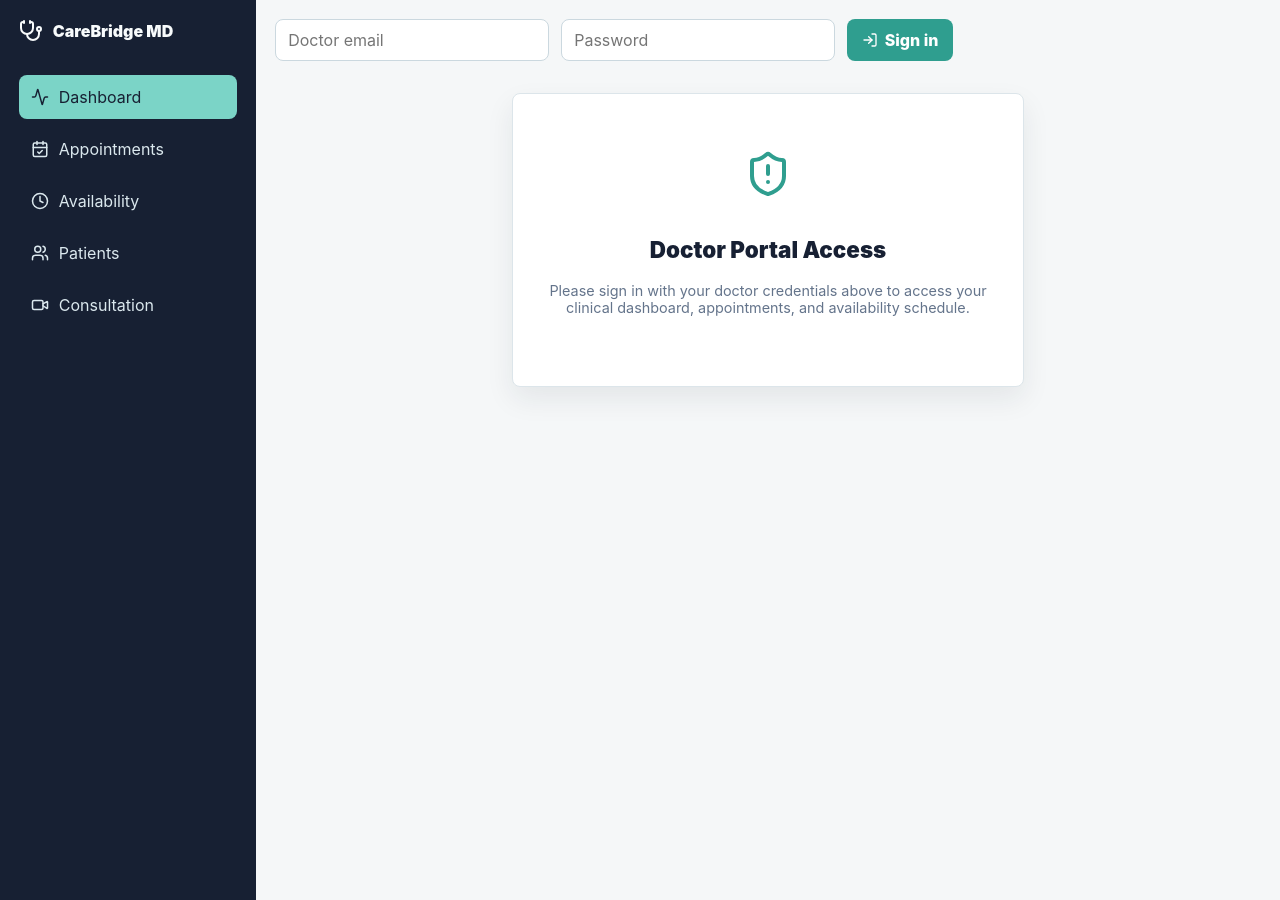
Test case: Doctor Dashboard: Real Component Workflow Tests › enforces session isolation: unmounts on logout, switches between Doctor A and Doctor B, and never leaks data
Expected: the heading "Doctor Portal Access" is shown, [650,236,886,263]
Expected: the text "Alice Routine Examination" is not shown
Type "doctorA@example.com" into the field with placeholder "Doctor email" at (412,40), box [275,19,549,61]
Type "Password123!" into the password field with placeholder "Password" at (698,40), box [561,19,835,61]
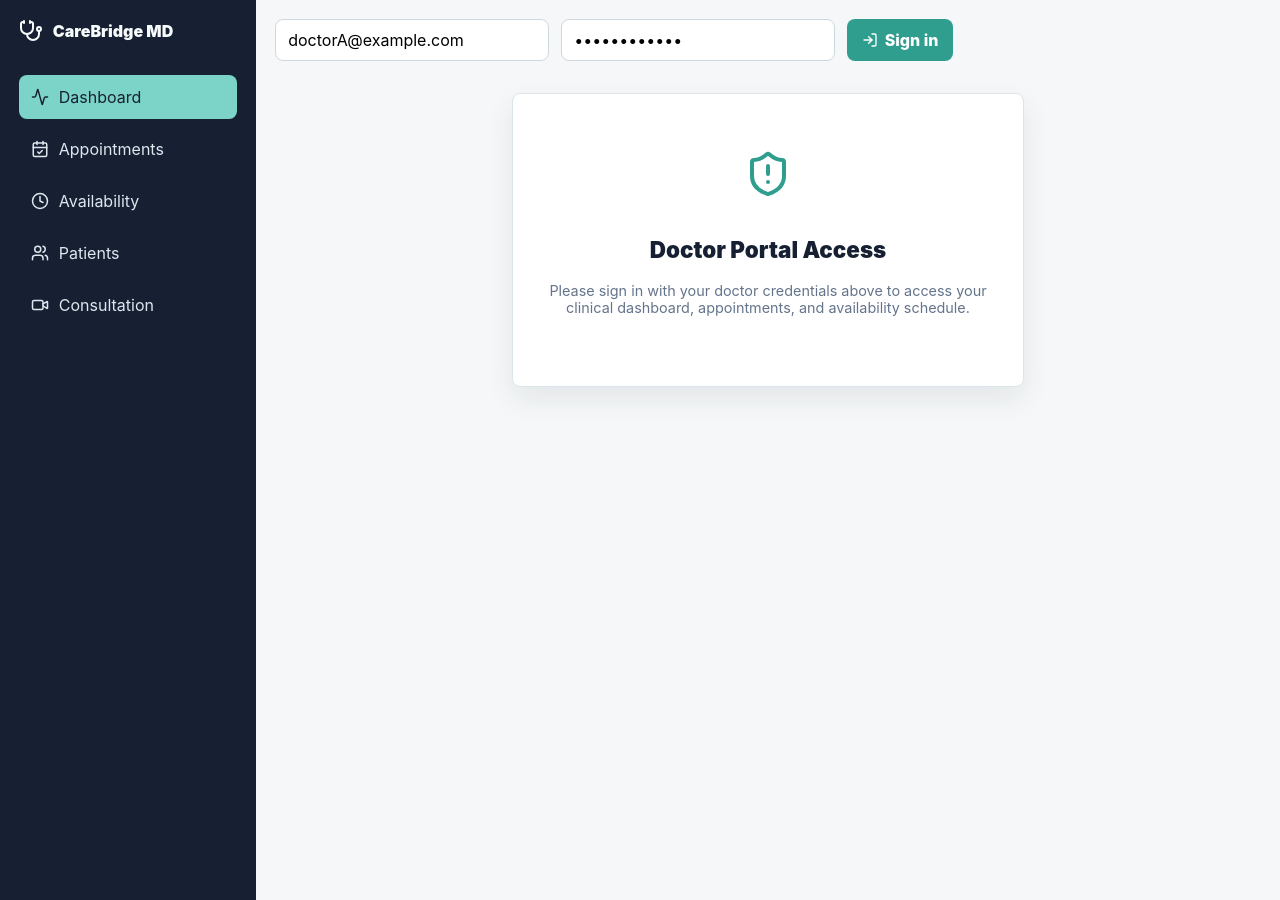
Click the button "Sign in" at (900,40), box [847,19,953,61]
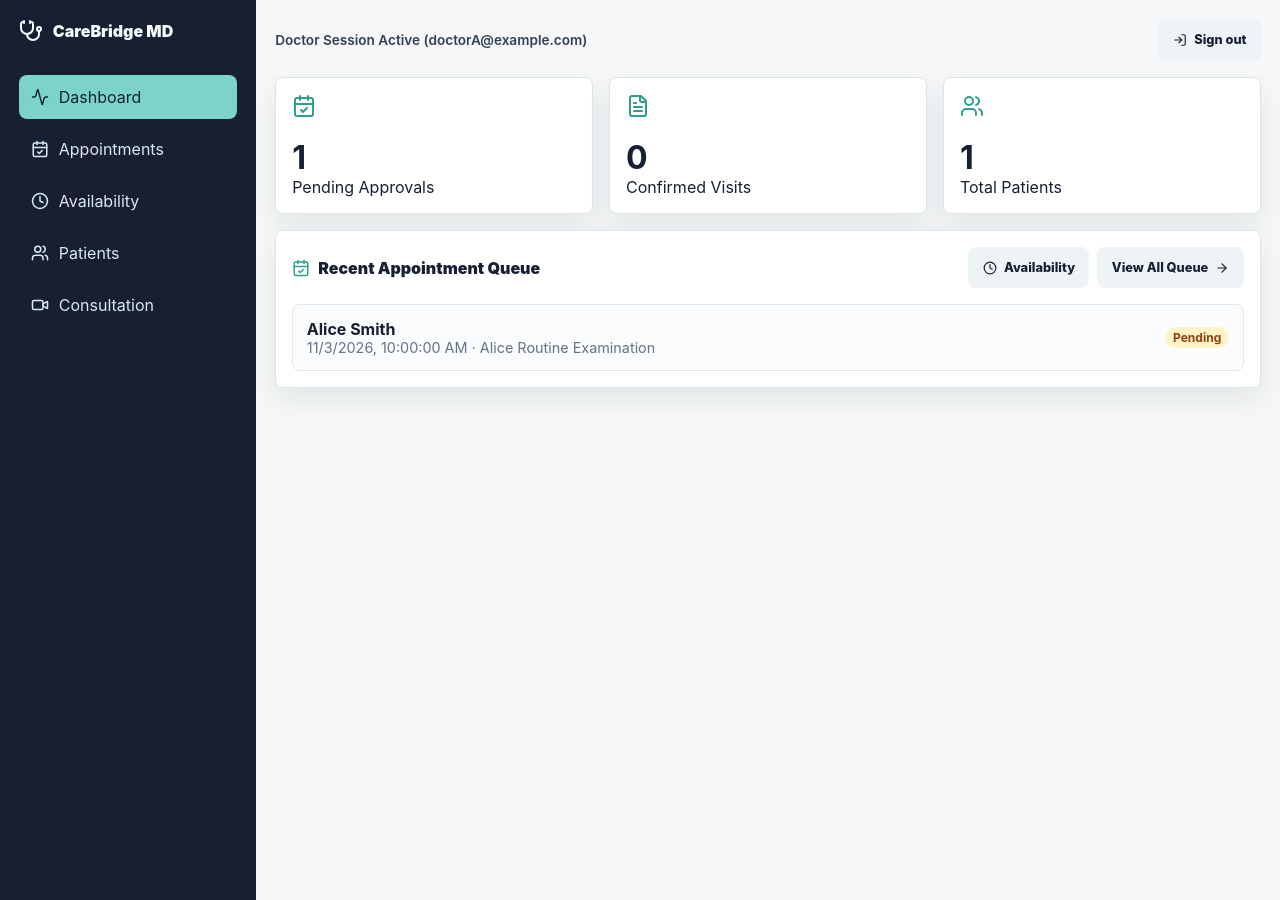
Expected: the text "Alice Smith" is shown, [307,319,395,339]
Expected: the text "11/3/2026, 10:00:00 AM · Alice Routine Examination" is shown, [307,339,655,356]
Expected: the text "Doctor Session Active (doctorA@example.com)" is shown, [275,32,587,48]
// Doctor A Logs Out
Click the button "Sign out" at (1210,40), box [1159,19,1261,61]
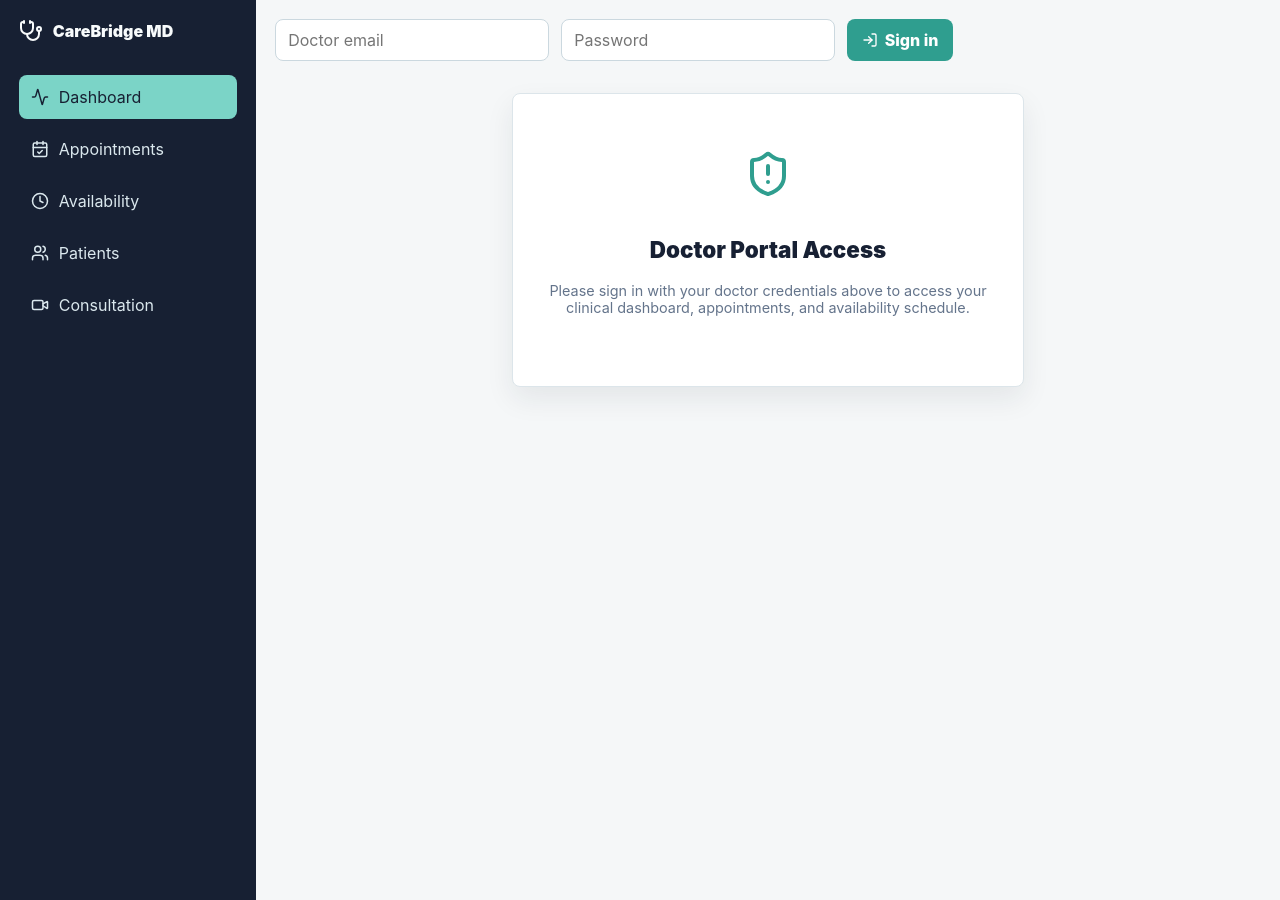
Expected: the heading "Doctor Portal Access" is shown, [650,236,886,263]
Expected: the text "Alice Smith" is gone
Type "doctorB@example.com" into the field with placeholder "Doctor email" at (412,40), box [275,19,549,61]
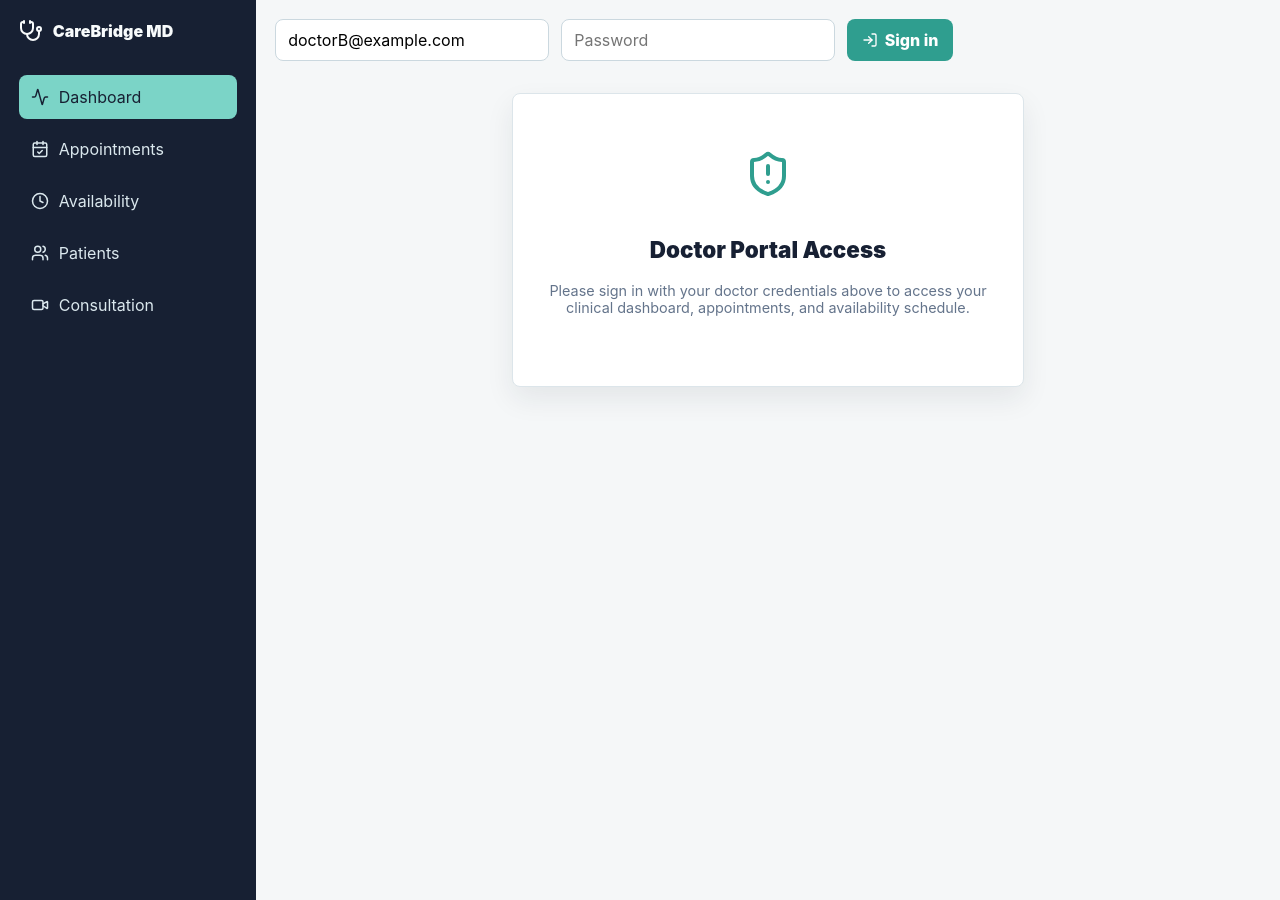
Type "Password123!" into the password field with placeholder "Password" at (698,40), box [561,19,835,61]
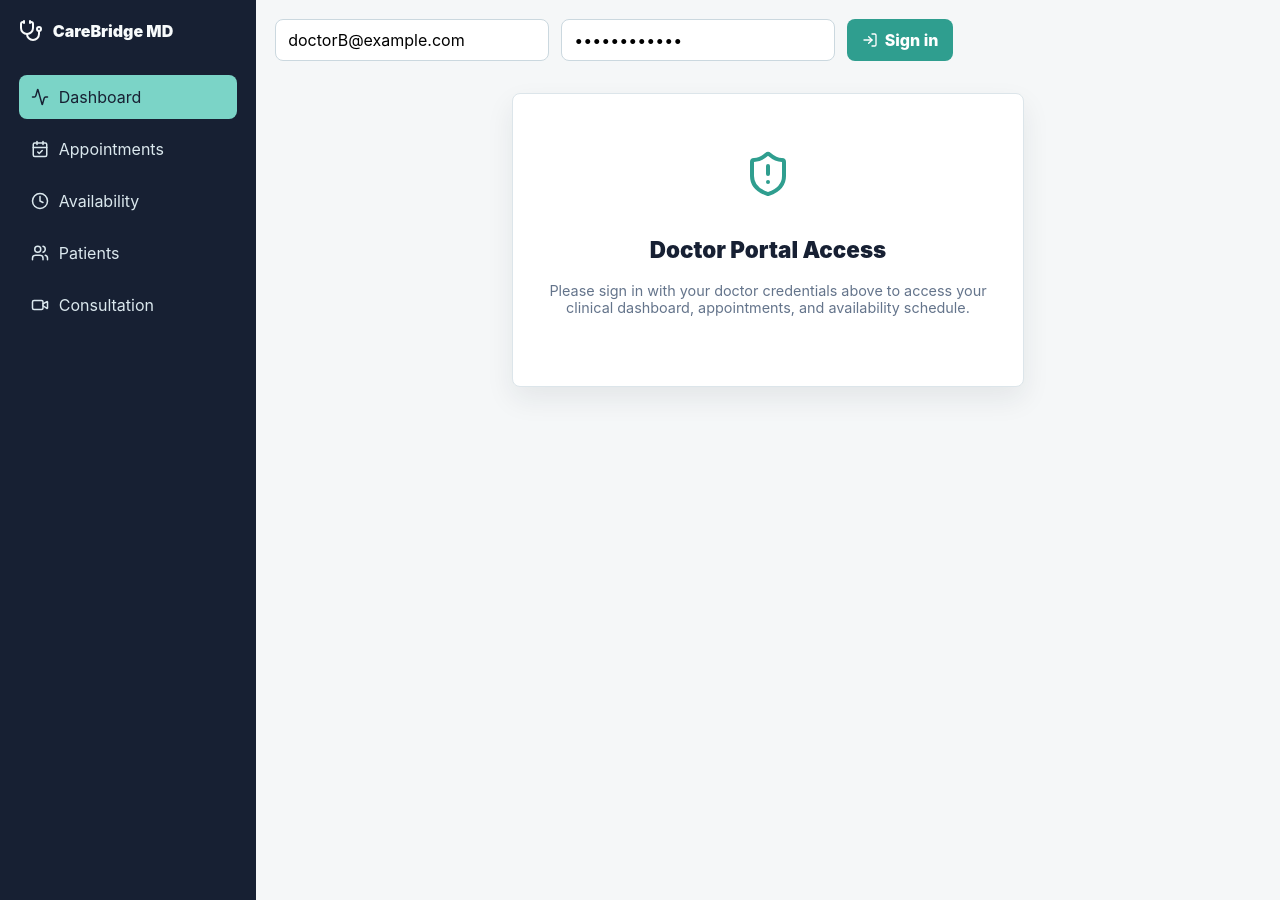
Click the button "Sign in" at (900,40), box [847,19,953,61]
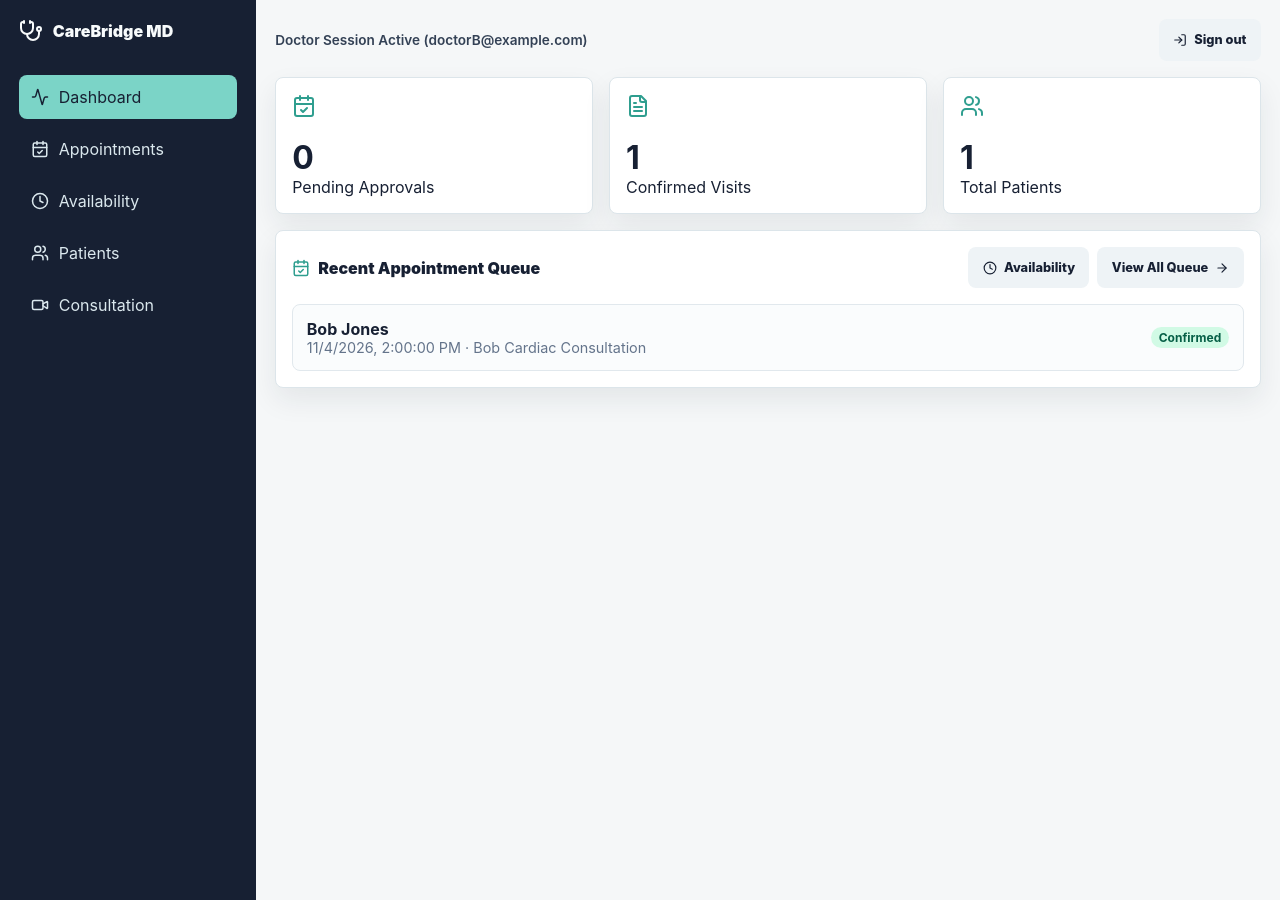
Expected: the text "Bob Jones" is shown, [307,319,389,339]
Expected: the text "11/4/2026, 2:00:00 PM · Bob Cardiac Consultation" is shown, [307,339,646,356]
Expected: the text "Doctor Session Active (doctorB@example.com)" is shown, [275,32,588,48]
